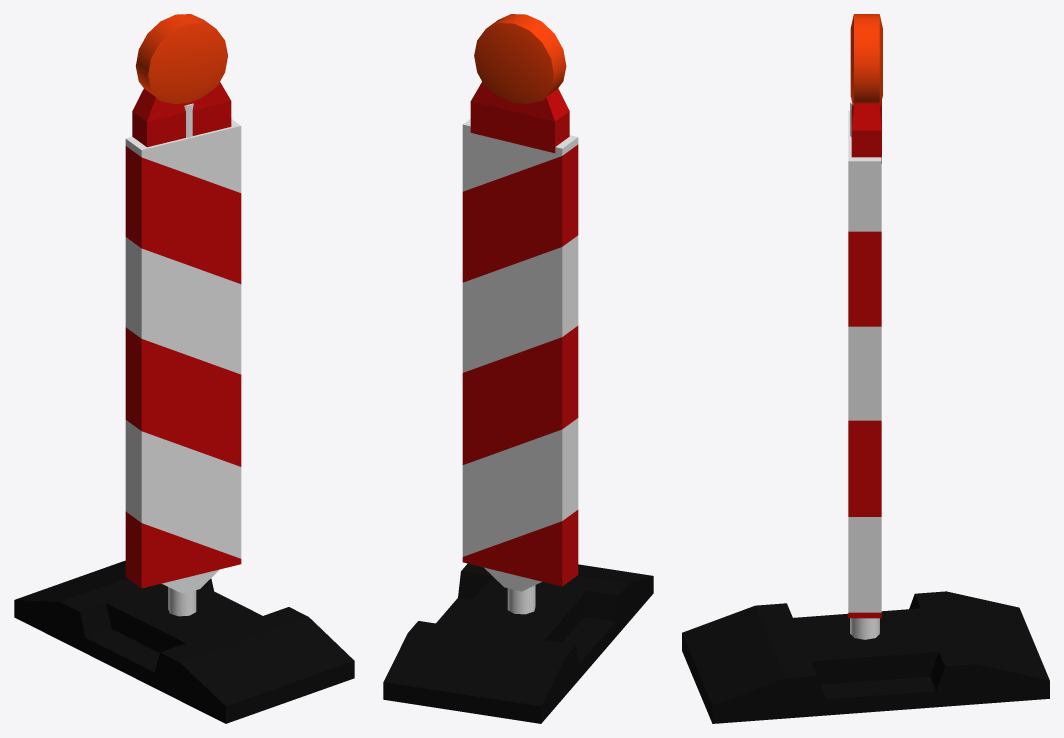
Rendered from ThreeLaneBeacon.fbx.
3 views of the same model, side by side, from view 1: azimuth 30°, elevation 25°; view 2: azimuth 150°, elevation 25°; view 3: azimuth 270°, elevation 25° (orthographic). The views are drawn at different scales.
Parts seen in each view (by area): view 1: ThreeLaneBeacon, SignStand06, Light01; view 2: ThreeLaneBeacon, SignStand06, Light01; view 3: SignStand06, ThreeLaneBeacon, Light01.
Part boxes in pixels (x1,y1,x2,y2): ThreeLaneBeacon: [125, 103, 241, 616]; SignStand06: [14, 560, 354, 723]; Light01: [132, 14, 231, 147]; ThreeLaneBeacon: [462, 119, 578, 614]; SignStand06: [383, 563, 653, 723]; Light01: [470, 14, 569, 153]; SignStand06: [682, 591, 1049, 723]; ThreeLaneBeacon: [848, 101, 881, 639]; Light01: [850, 14, 882, 163].
Bounding box in the file's own units: 23.38 × 72.94 × 37.09.
